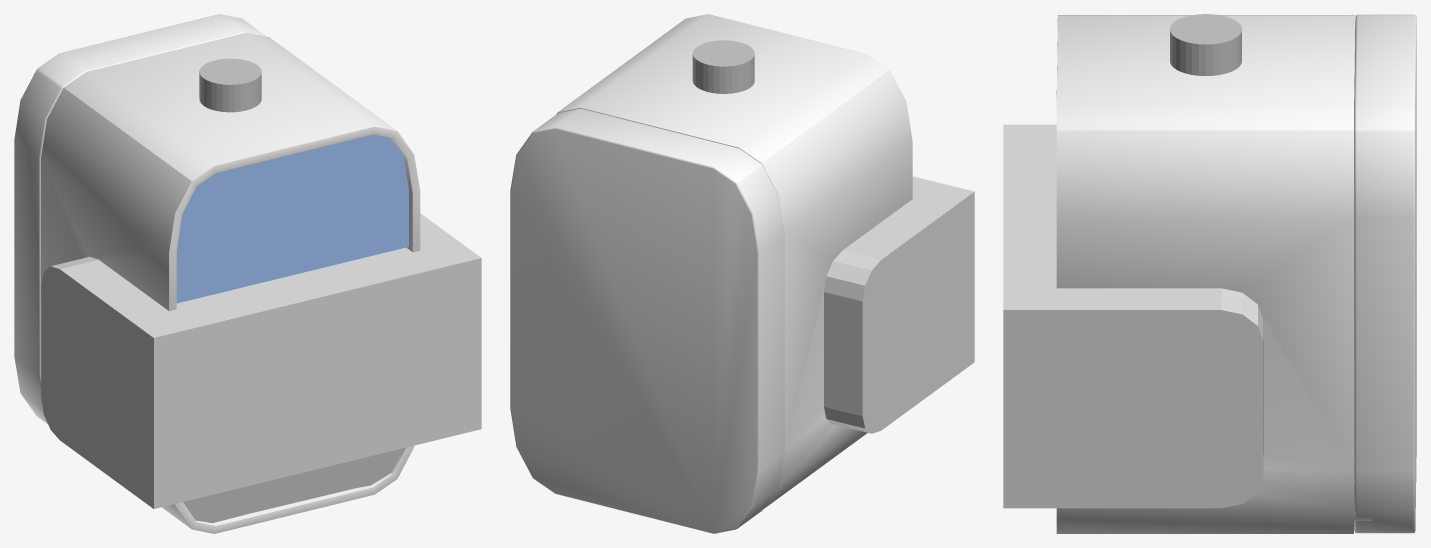
File: CoffeeMachine.fbx
3 renders of one model, left to right at view 1: azimuth 30°, elevation 25°; view 2: azimuth 150°, elevation 25°; view 3: azimuth 270°, elevation 25°, orthographic. The views are drawn at different scales.
Parts seen in each view (by area): view 1: Cube.001, Cube, Plane, Cube.002, Cube.003, Cylinder; view 2: Cube.002, Cube, Cube.001, Cylinder; view 3: Cube, Cube.001, Cube.002, Cylinder.
Boxes of the visible parts, box(x1,y1,x2,y2) form: Cube.001: box(41, 213, 481, 508); Cube: box(41, 32, 420, 533); Plane: box(176, 134, 408, 303); Cube.002: box(14, 14, 265, 424); Cube.003: box(183, 448, 403, 523); Cylinder: box(199, 58, 261, 112); Cube.002: box(510, 108, 784, 533); Cube: box(556, 14, 912, 508); Cube.001: box(824, 176, 974, 433); Cylinder: box(692, 40, 754, 93); Cube: box(1056, 15, 1355, 533); Cube.001: box(1003, 124, 1263, 508); Cube.002: box(1354, 14, 1416, 533); Cylinder: box(1170, 14, 1241, 75).
Size of the model in its own units: 532 by 614 by 501.
